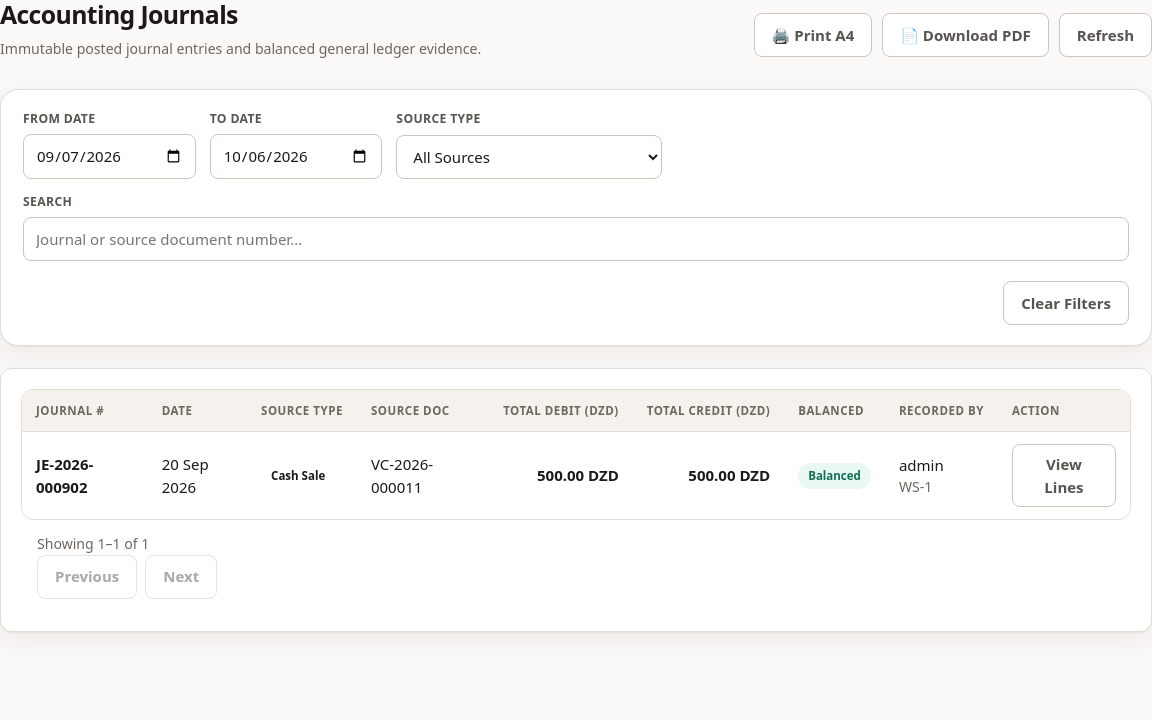
Test case: Journals search workflow › shows <scf_code> · <name> per line, localized by locale, in the detail modal
Click the button with test id "view-journal-902" at (1064, 476), box top-left (1012, 444), bottom-right (1116, 507)
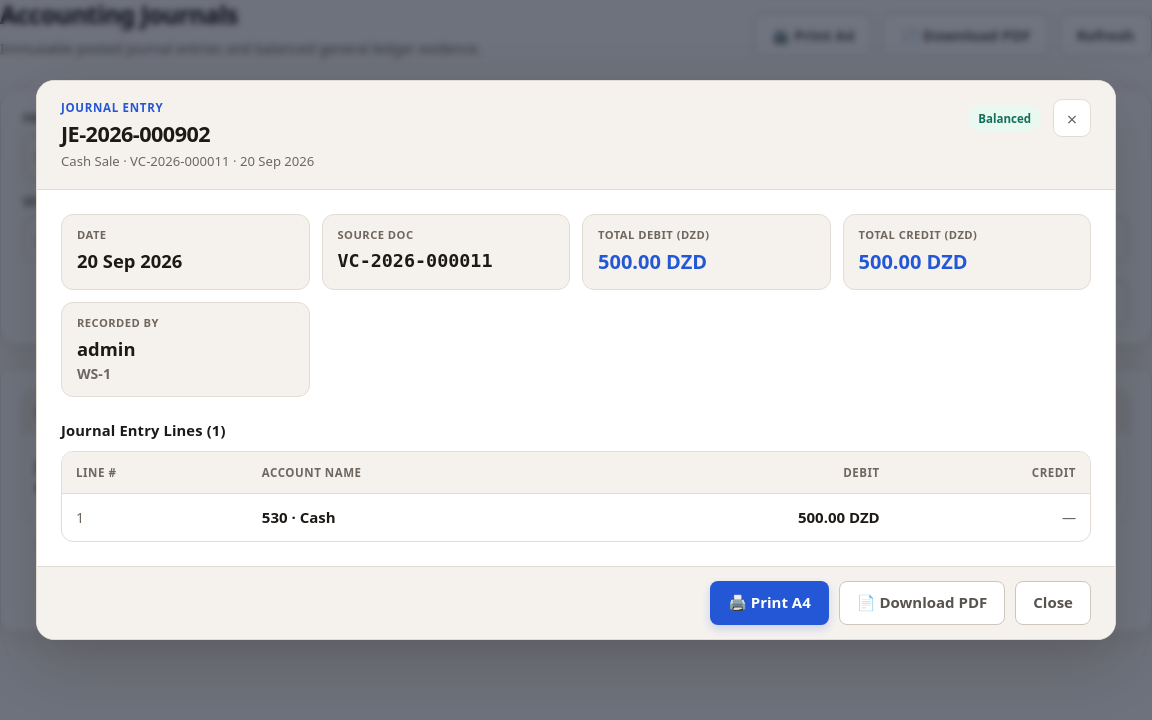
Now the text "530 · Cash" is shown, box top-left (262, 507), bottom-right (336, 527)
